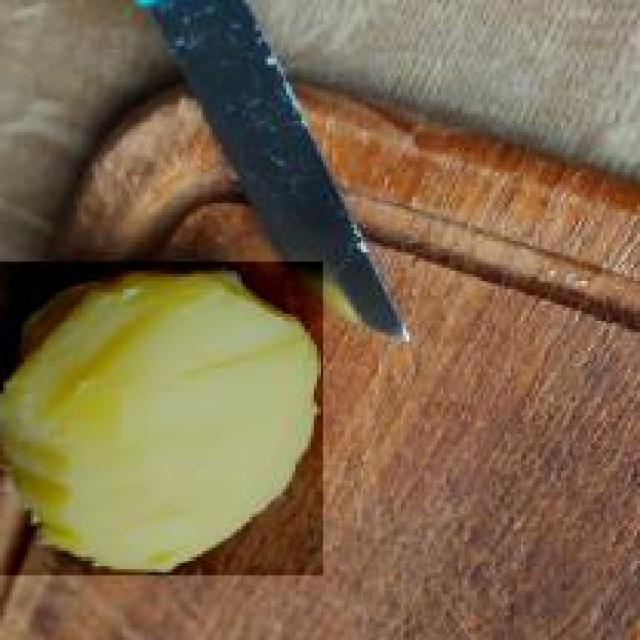butter: (0, 258, 326, 576)
